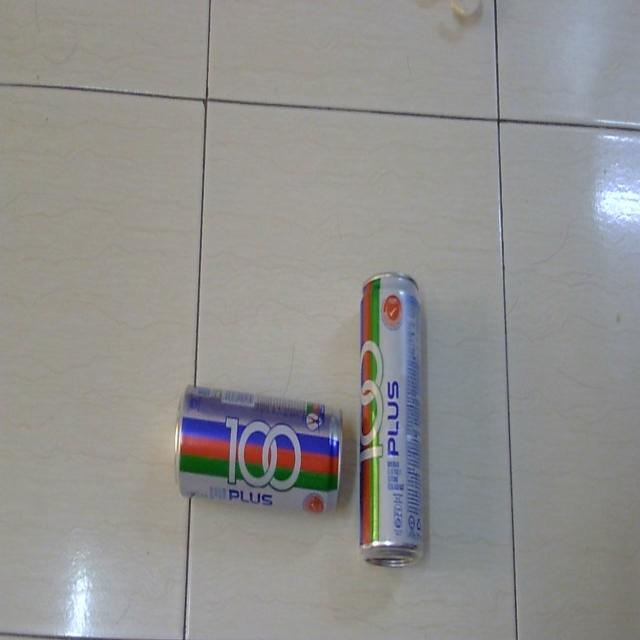metal_laydown_0rotation: (167, 371, 345, 523)
metal_laydown_90rotation: (352, 265, 437, 568)
